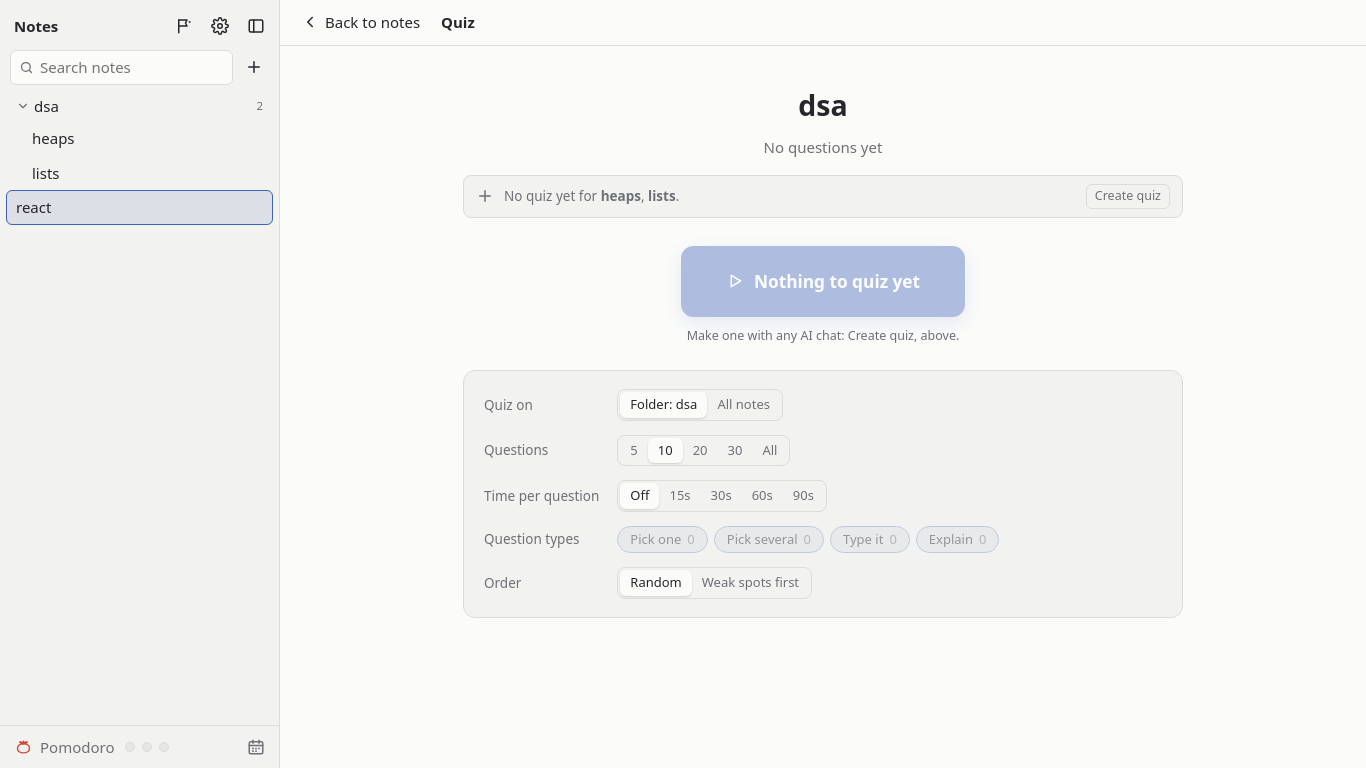
Test: Create quiz › lets you pick the note when several have no quiz
The width and height of the screenshot is (1366, 768).
Click the button "Create quiz": (1128, 196) x1=1086 y1=184 x2=1170 y2=209
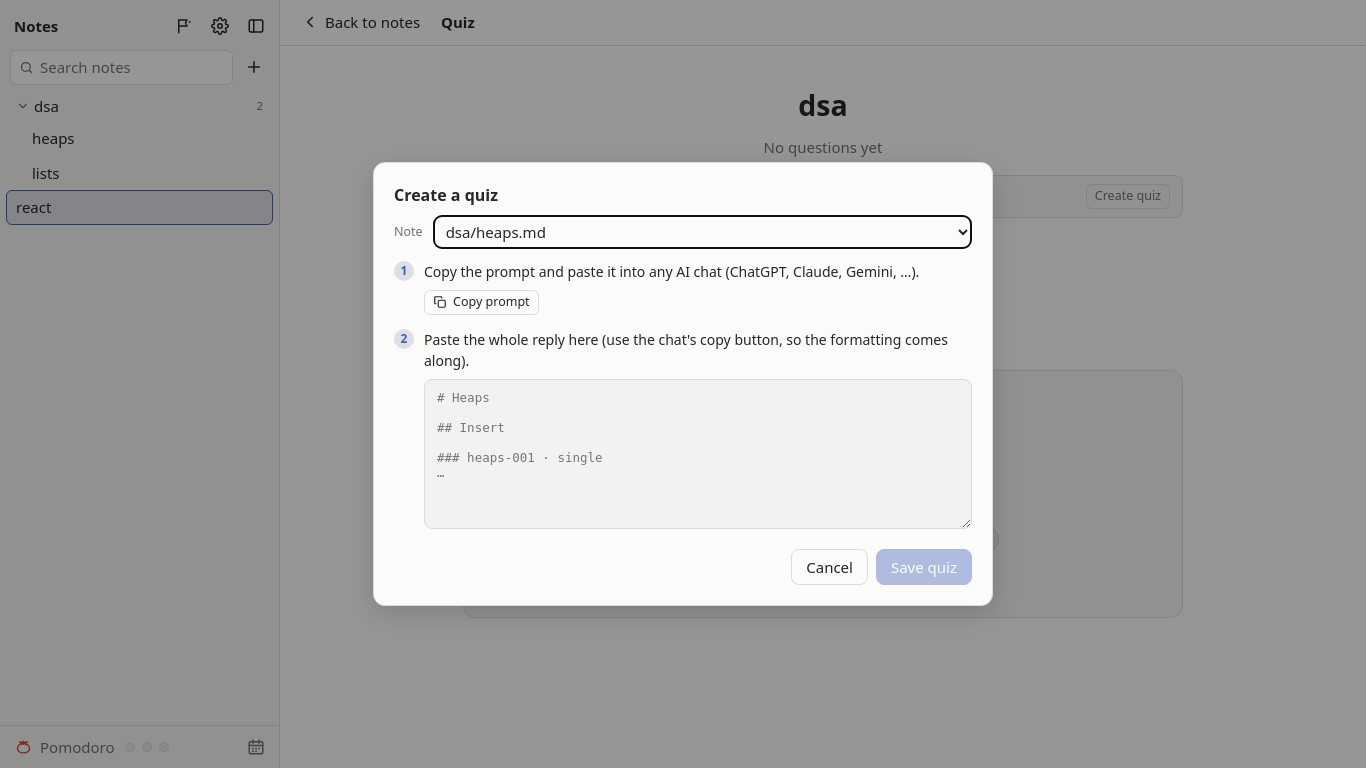
Select "dsa/lists.md" in the dropdown: (702, 232) x1=433 y1=215 x2=972 y2=249
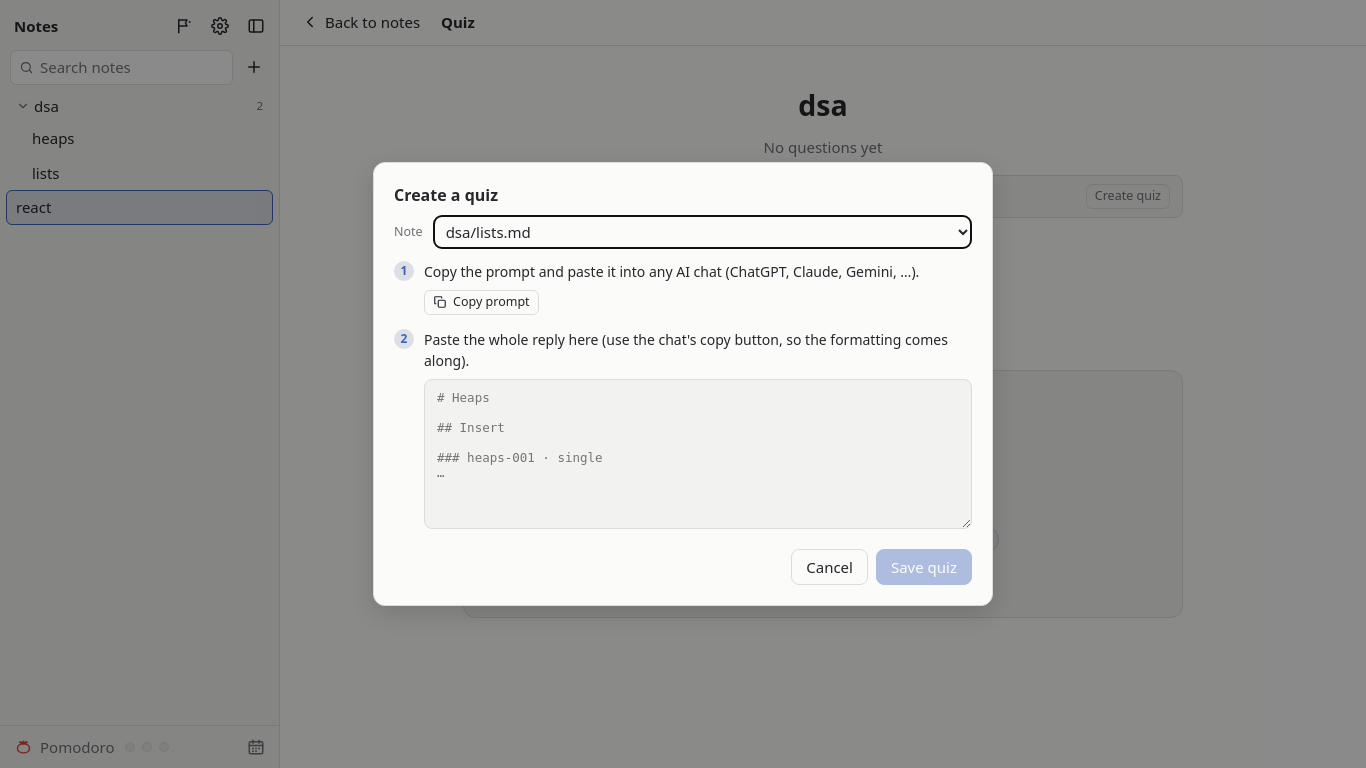
Click the text box named "AI reply": (698, 454) x1=424 y1=379 x2=972 y2=529
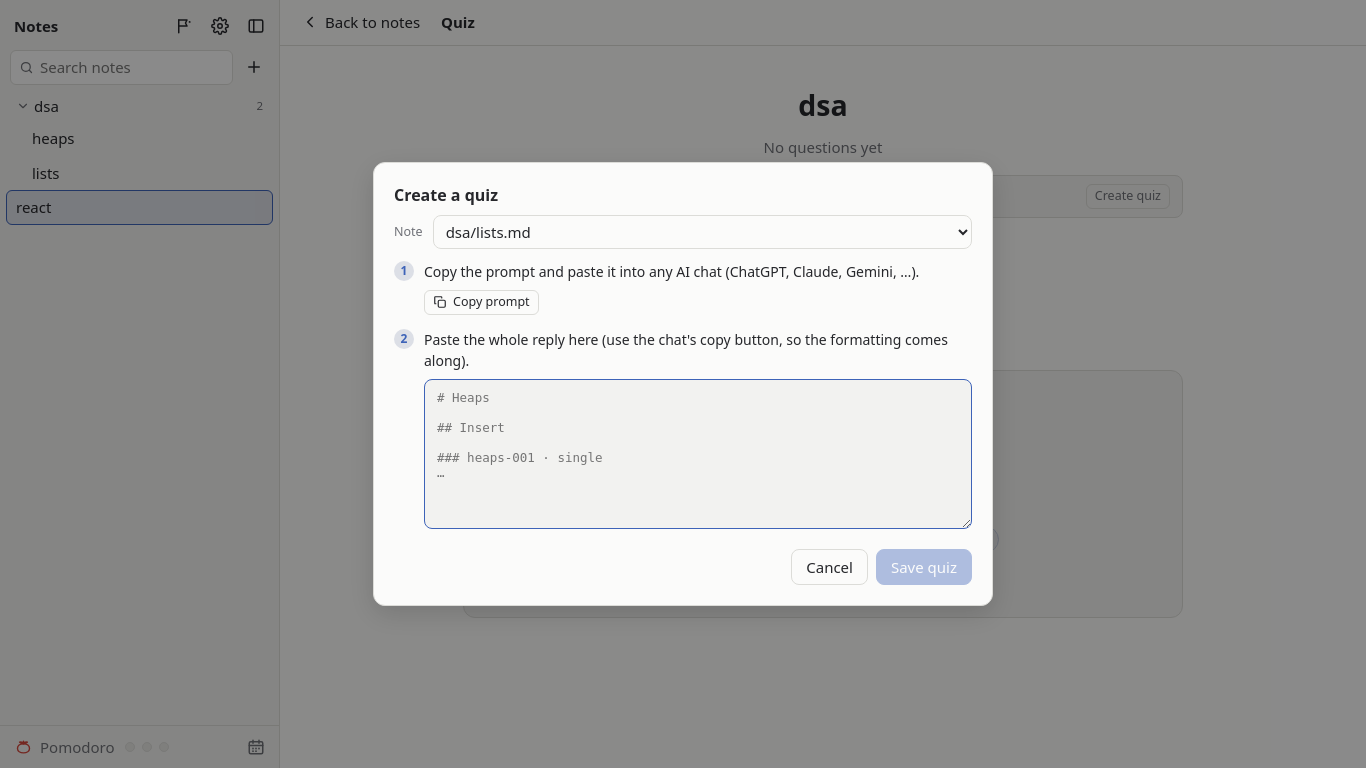
Type keys "Sure, here's the quiz: ````markdown # Lists ## Reverse ### lists-001 · single How many pointers does an in-place reverse need? - [ ] 1 - [x] 3 > prev, current and next. ### lists-002 · recall Why keep"
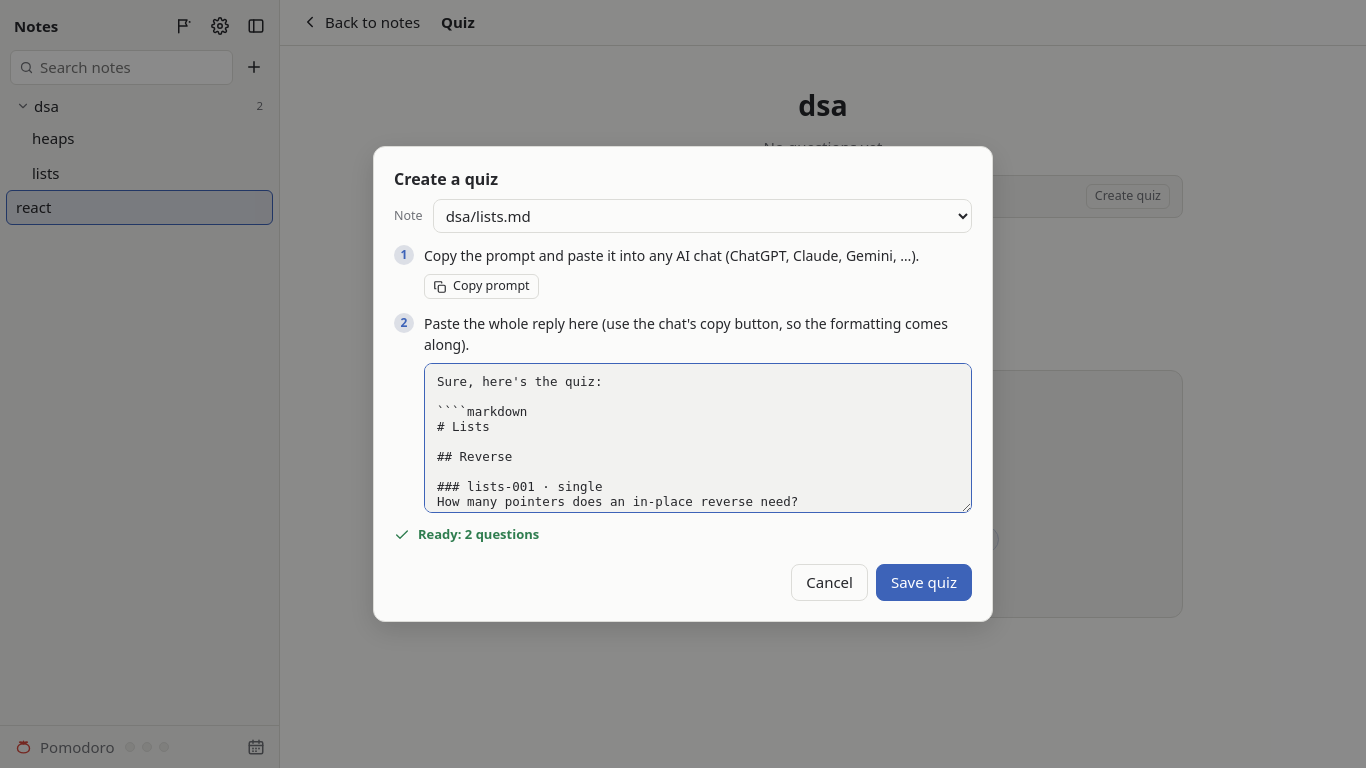
Now the text "Ready: 2 questions" is shown, box x1=394 y1=525 x2=539 y2=543
